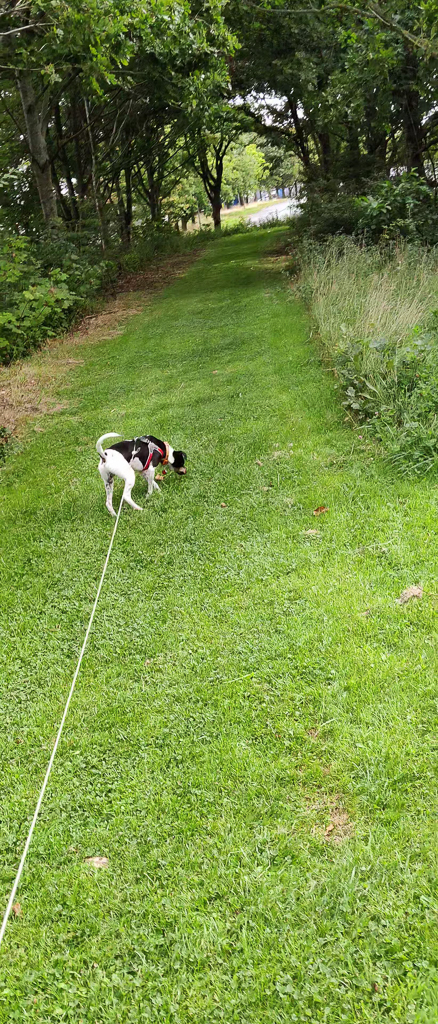Dog: (83, 421, 204, 526)
